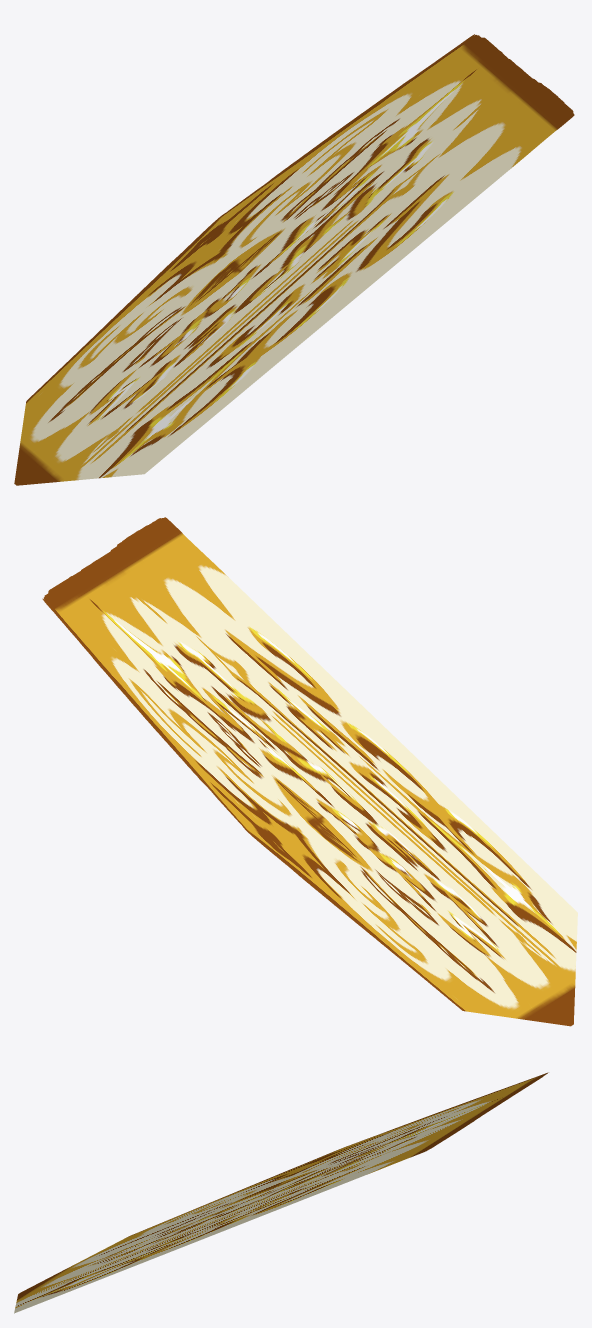
Rendered from flag_reuv.fbx.
3 renders of one model, top to bottom at view 1: azimuth 30°, elevation 25°; view 2: azimuth 150°, elevation 25°; view 3: azimuth 330°, elevation 25°, orthographic. The views are drawn at different scales.
Visible parts, largest first — view 1: flag; view 2: flag; view 3: flag.
Part boxes in pixels (x1=…): flag: x1=14, y1=34, x2=574, y2=485; flag: x1=42, y1=517, x2=577, y2=1026; flag: x1=14, y1=1072, x2=548, y2=1313.
Size of the model in its own units: 2907 by 1782 by 1485.
